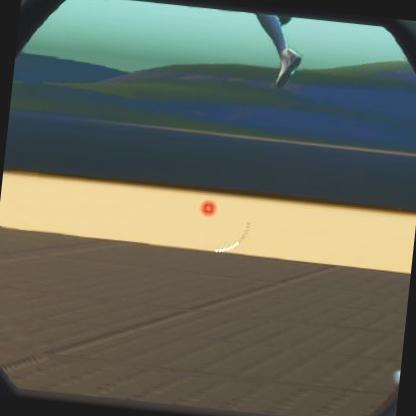person: (254, 6, 305, 86)
